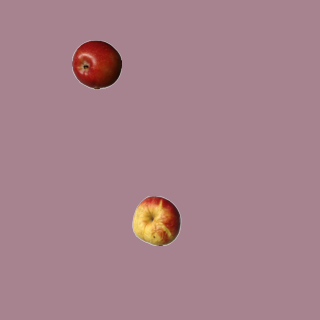Apple Braeburn: (71, 39, 121, 89)
Apple Red Yellow 1: (131, 195, 181, 245)
